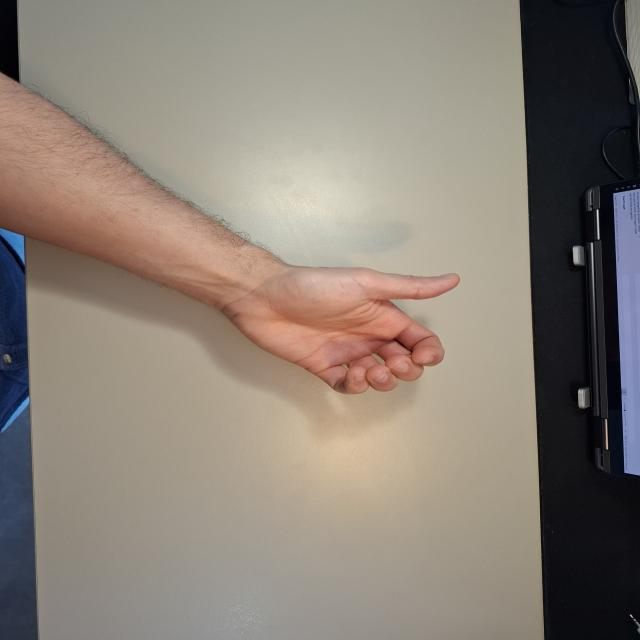glove_off: (215, 262, 463, 397)
